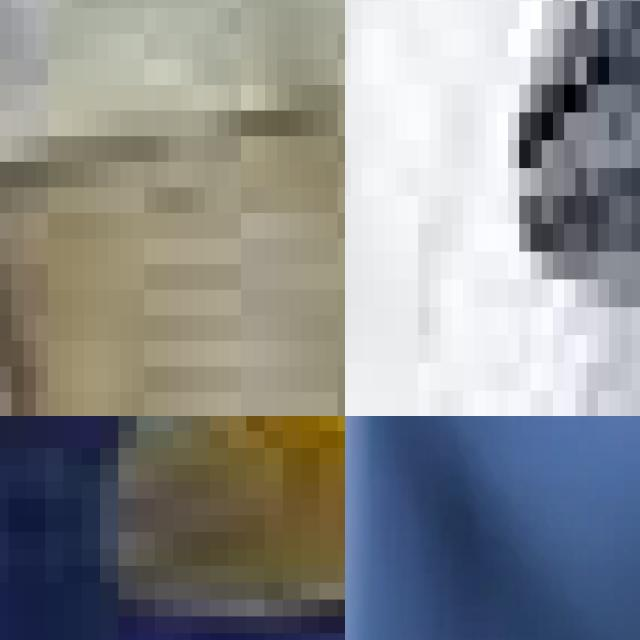fish: (0, 0, 345, 416), (407, 0, 640, 416)
